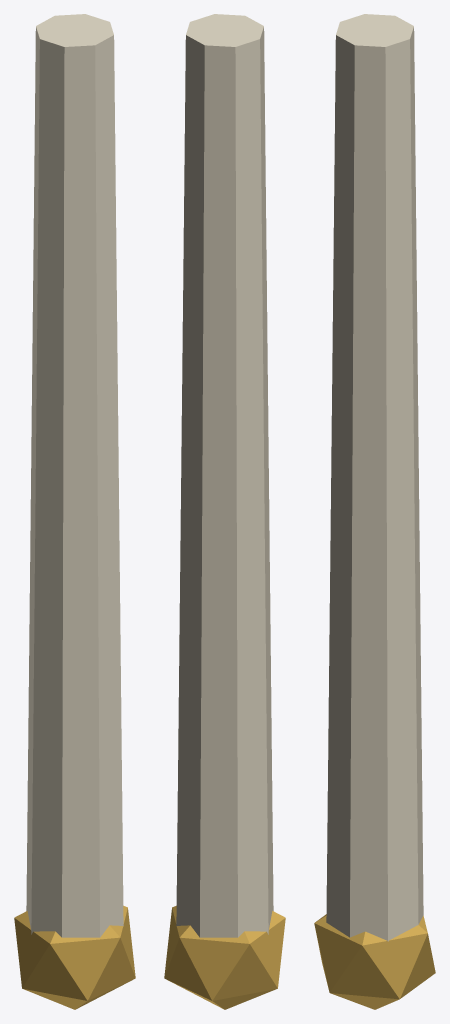
The model's file is wk_skeleton_thigh_v01.glb.
3 renders of one model, left to right at view 1: azimuth 30°, elevation 25°; view 2: azimuth 150°, elevation 25°; view 3: azimuth 330°, elevation 25°, orthographic.
Visible parts, largest first — view 1: GEO_Skeleton_thigh, GEO_Skeleton_thigh_Joint; view 2: GEO_Skeleton_thigh, GEO_Skeleton_thigh_Joint; view 3: GEO_Skeleton_thigh, GEO_Skeleton_thigh_Joint.
Part boxes in pixels (left/top/right/bottom): GEO_Skeleton_thigh: left=26, top=14, right=123, bottom=937; GEO_Skeleton_thigh_Joint: left=14, top=905, right=135, bottom=1009; GEO_Skeleton_thigh: left=176, top=14, right=273, bottom=937; GEO_Skeleton_thigh_Joint: left=164, top=905, right=285, bottom=1009; GEO_Skeleton_thigh: left=326, top=14, right=423, bottom=941; GEO_Skeleton_thigh_Joint: left=314, top=914, right=435, bottom=1009.
Size of the model in its own units: 0.1207 by 1.07 by 0.1148.
